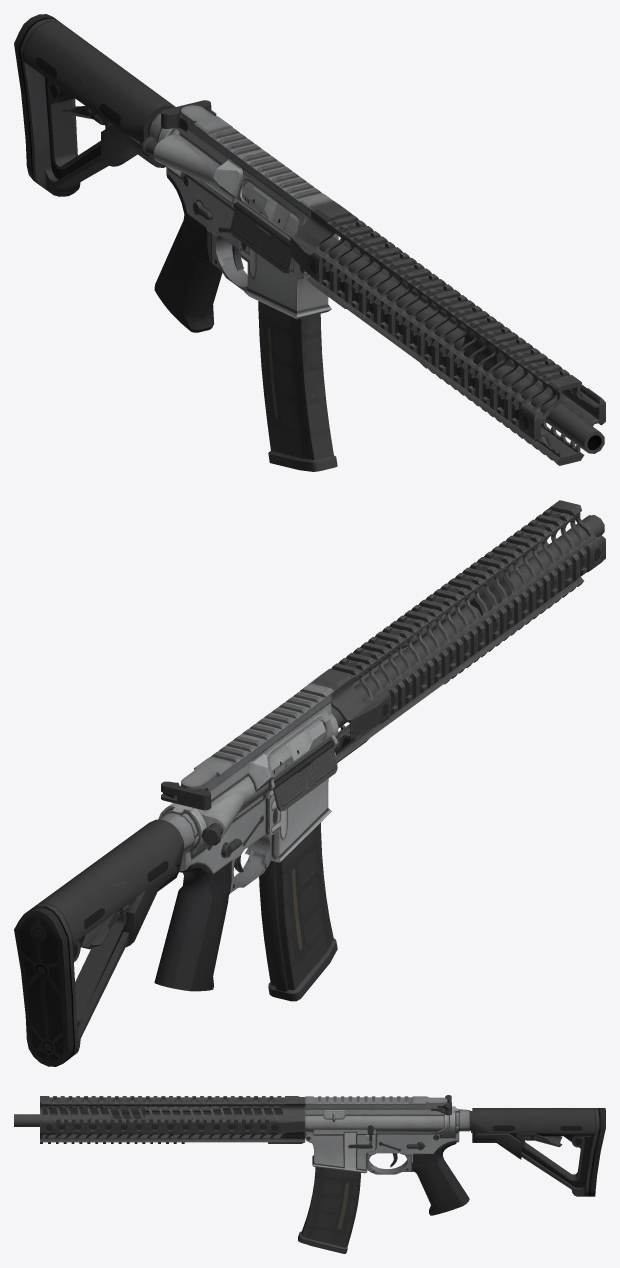
Rendered from raw.glb.
3 renders of one model, top to bottom at view 1: azimuth 30°, elevation 25°; view 2: azimuth 150°, elevation 25°; view 3: azimuth 270°, elevation 25°, orthographic. The views are drawn at different scales.
Visible parts, largest first — view 1: asteria_LOD0; view 2: asteria_LOD0; view 3: asteria_LOD0.
Boxes of the visible parts, left/top/right/bottom form: asteria_LOD0: left=14, top=14, right=605, bottom=471; asteria_LOD0: left=14, top=500, right=605, bottom=1066; asteria_LOD0: left=14, top=1095, right=605, bottom=1253.
Bounding box in the file's own units: 0.0573 × 0.2065 × 0.7289.
1 material, 1 textured.
